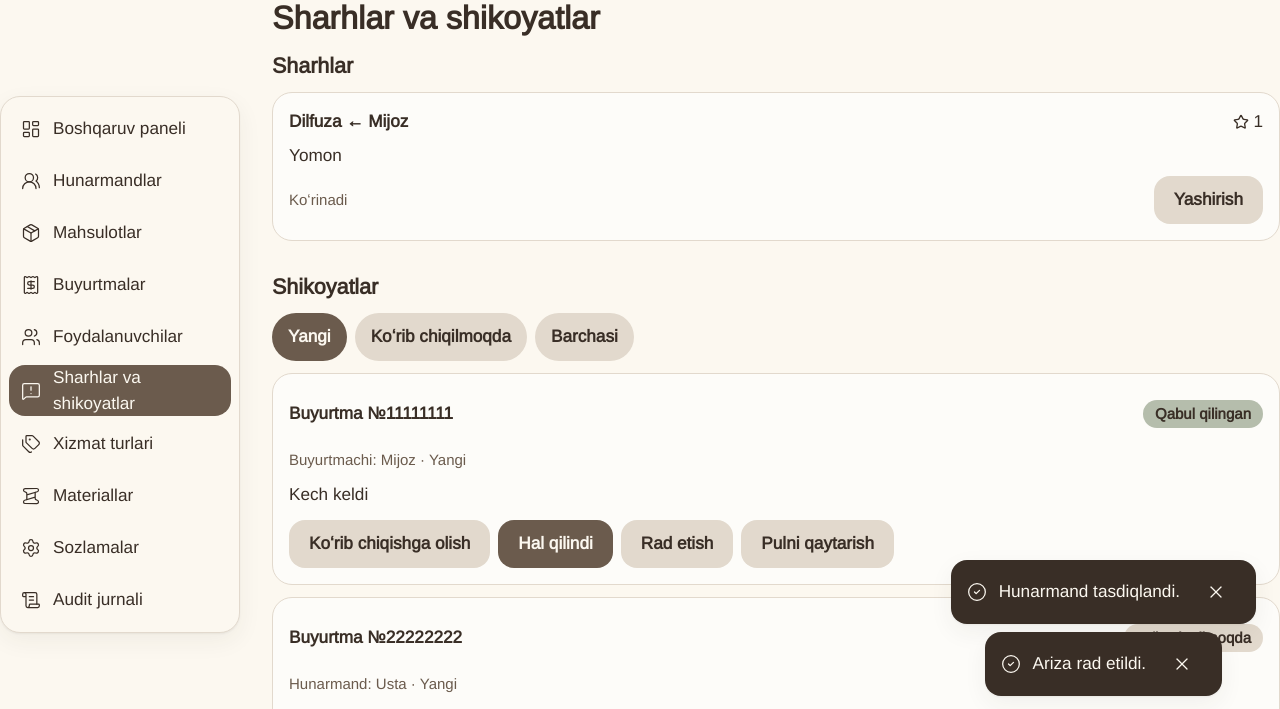
it: admin panel › hides a review and offers a refund only for refundable paid orders
The width and height of the screenshot is (1280, 709).
expect the text "Yomon" is shown: met, box [289, 146, 342, 165]
Click the button with aria-label "Yashirish: Dilfuza" at {"x": 1208, "y": 200}, box [1154, 176, 1263, 224]
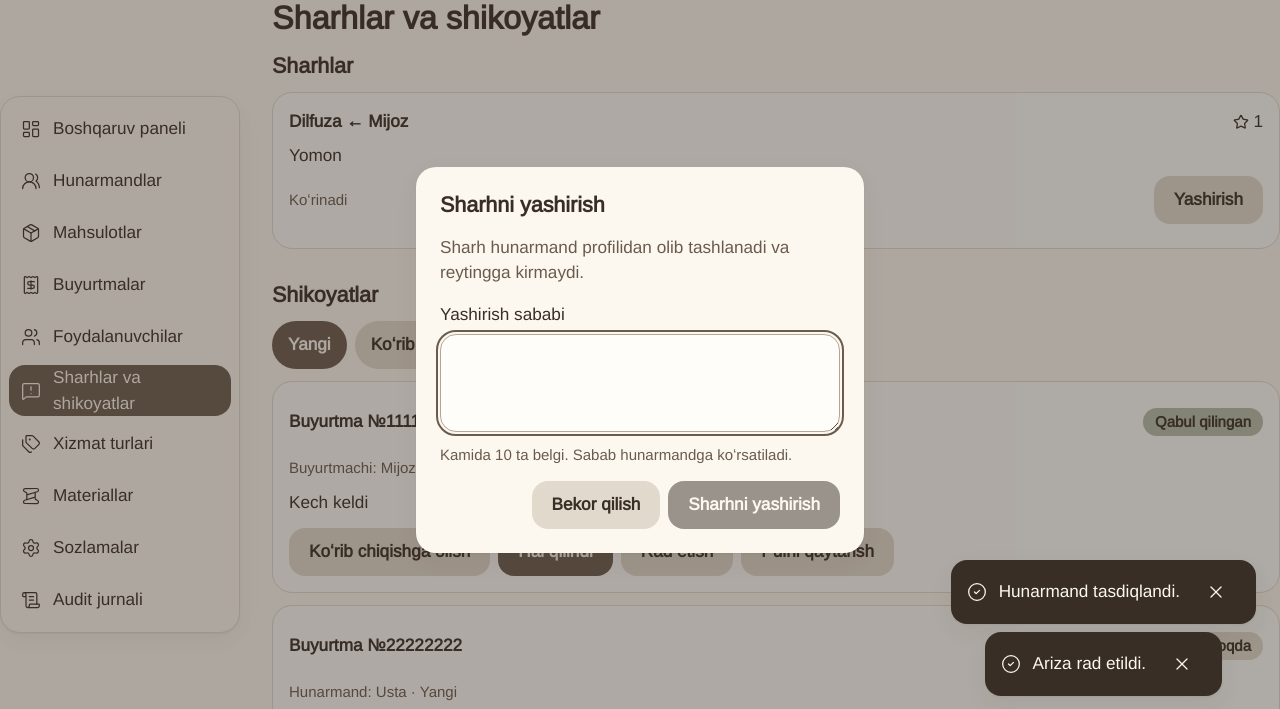
expect the button "Sharhni yashirish" is disabled: met, box [668, 481, 840, 529]
Type "Haqoratli soʻzlar bor" into the text box labelled "Yashirish sababi" at {"x": 640, "y": 383}, box [440, 334, 840, 432]
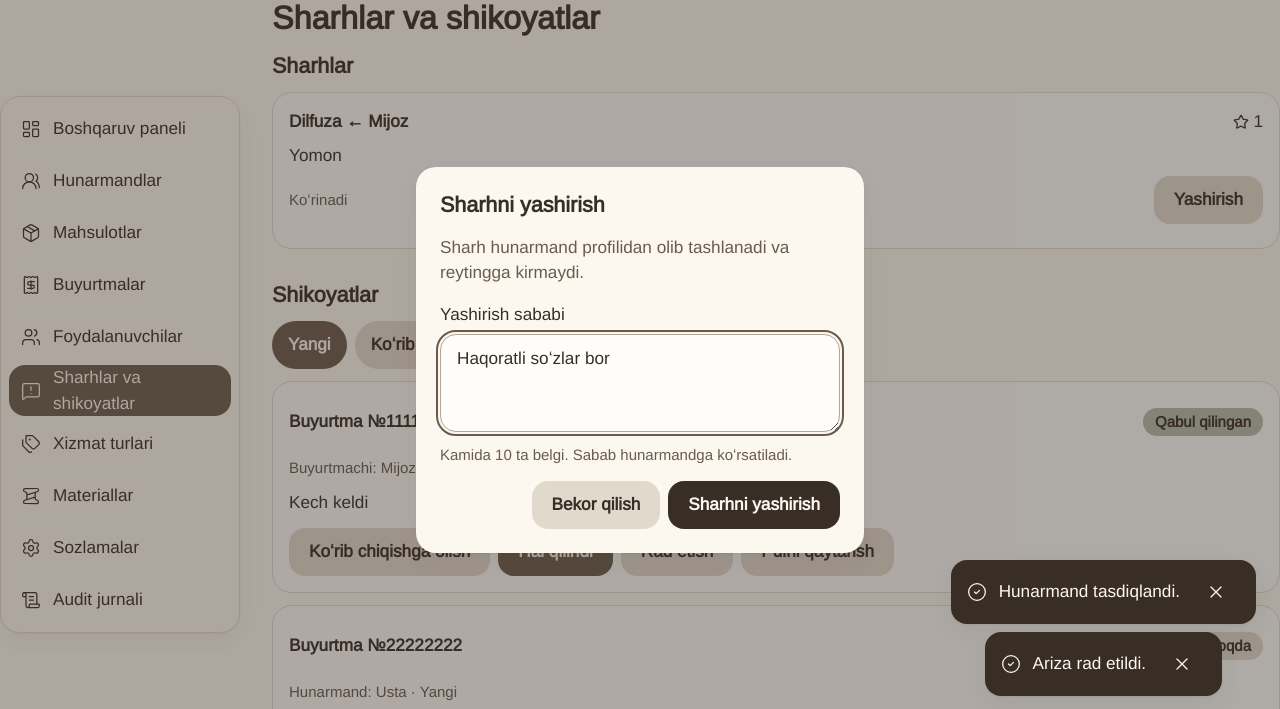
Click the button "Sharhni yashirish" at {"x": 754, "y": 505}, box [668, 481, 840, 529]
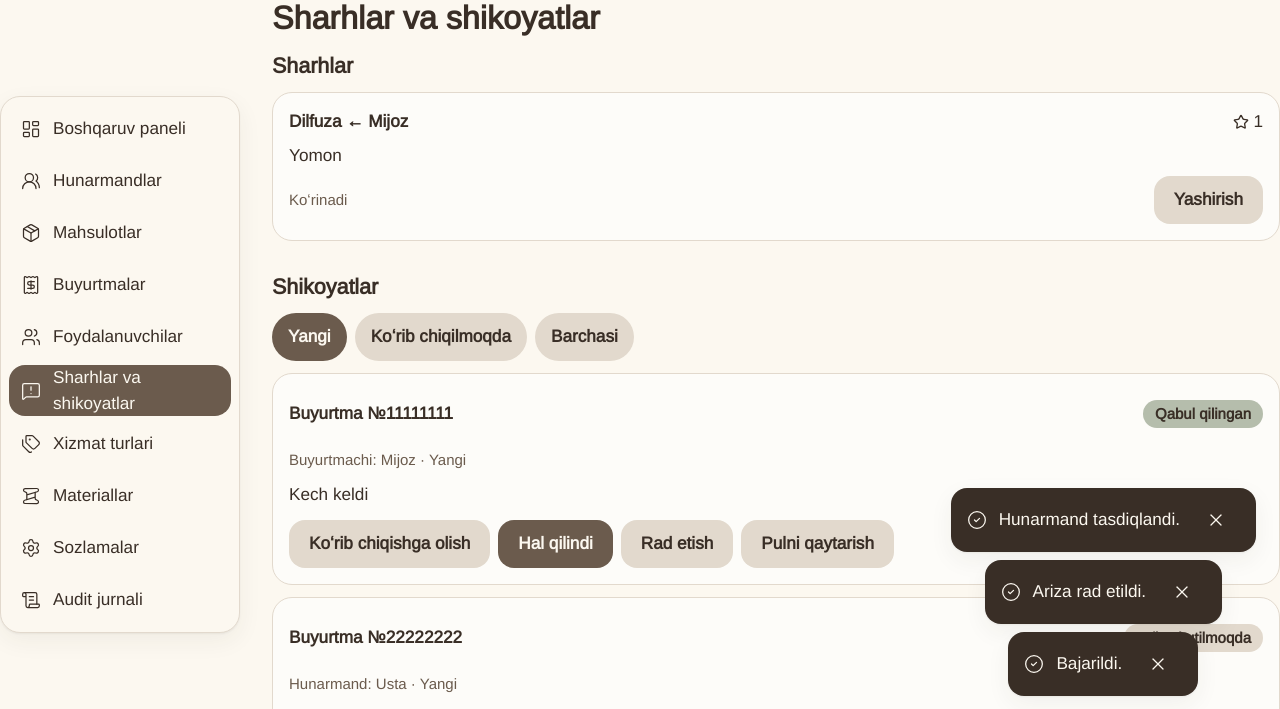
expect the text "Kech keldi" is shown: met, box [289, 485, 368, 504]
expect the number of buttons "Koʻrib chiqishga olish" is 2: met
